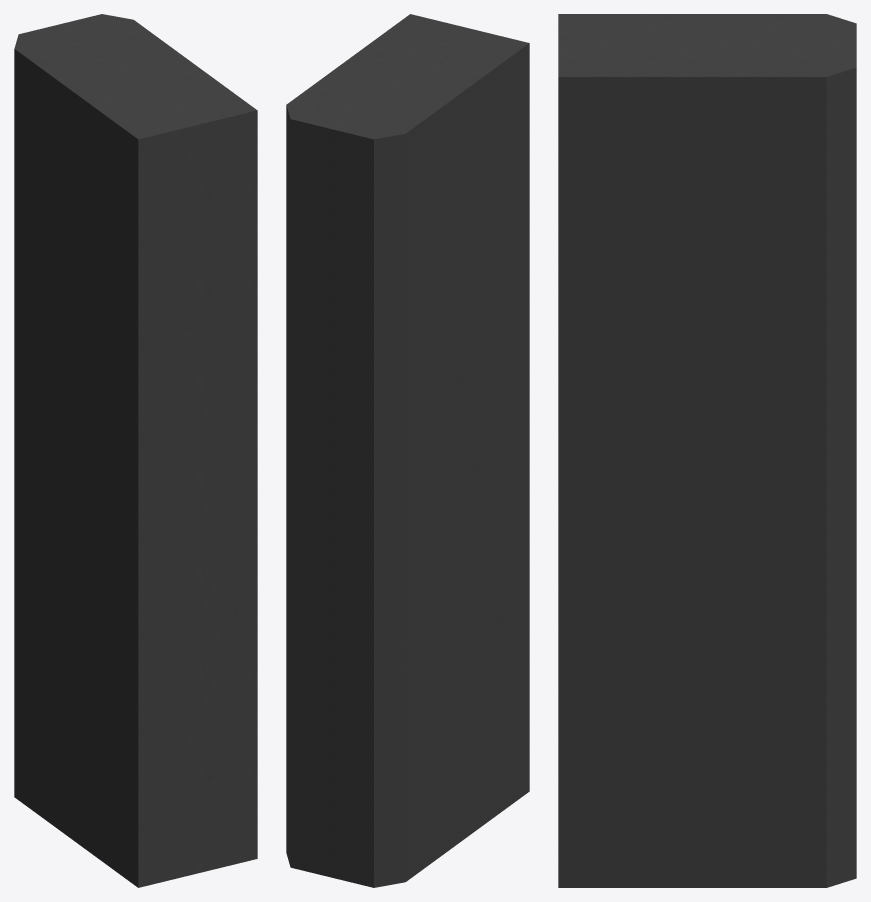
File: Ceiling_Splitter_Big.fbx
3 views of the same model, side by side, from view 1: azimuth 30°, elevation 25°; view 2: azimuth 150°, elevation 25°; view 3: azimuth 270°, elevation 25° (orthographic). The views are drawn at different scales.
Visible parts, largest first — view 1: Corridor_Ceiling_Splitter_Big; view 2: Corridor_Ceiling_Splitter_Big; view 3: Corridor_Ceiling_Splitter_Big.
Part boxes in pixels (bbox=[...]): Corridor_Ceiling_Splitter_Big: bbox=[14, 14, 257, 887]; Corridor_Ceiling_Splitter_Big: bbox=[286, 14, 529, 887]; Corridor_Ceiling_Splitter_Big: bbox=[558, 14, 856, 887].
Size of the model in its own units: 100 by 600 by 200.
1 material, 1 textured.
